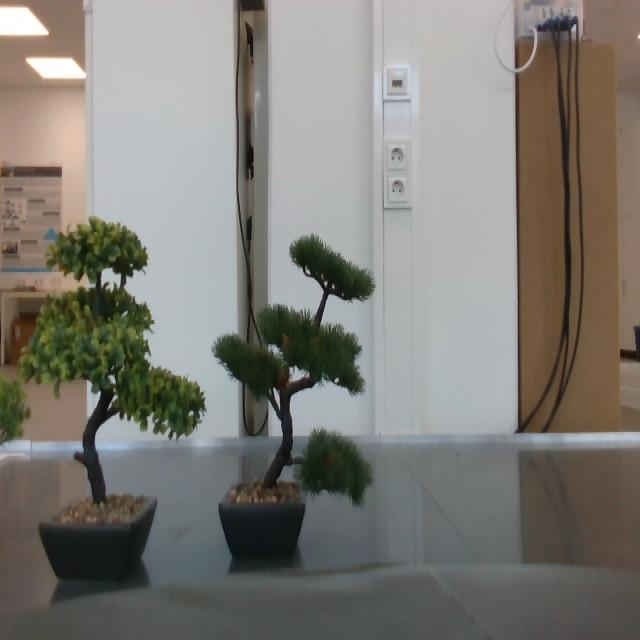potted plant: (1, 213, 200, 577), (212, 236, 374, 557)
